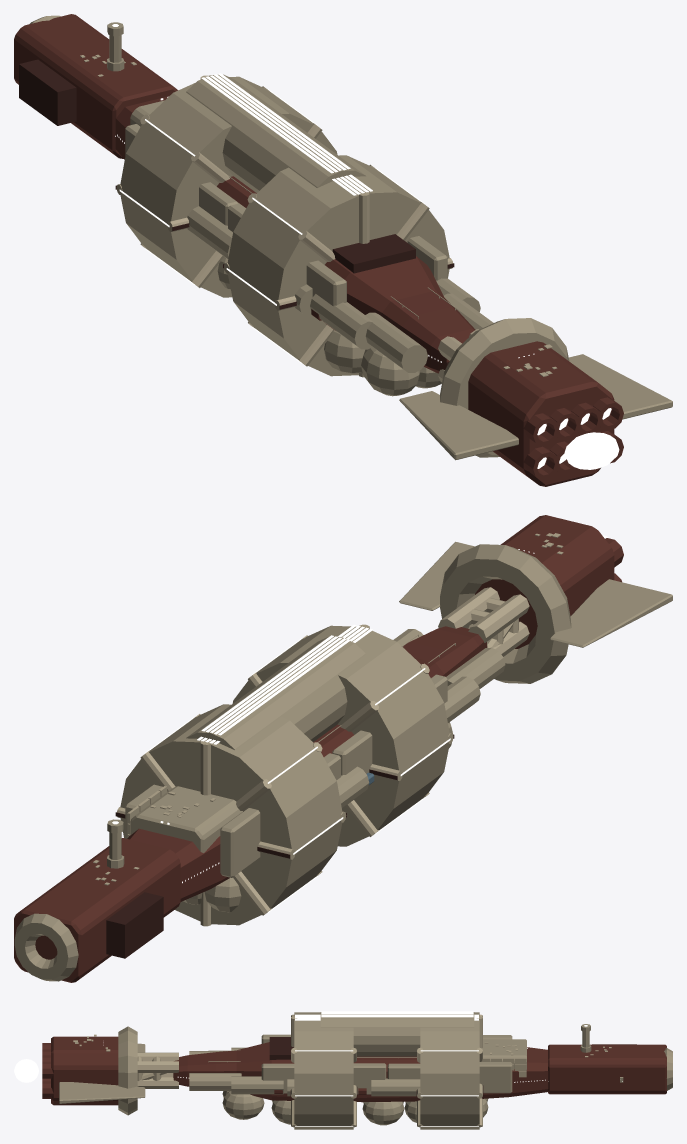
The picture shows the model from 3 angles, top to bottom: view 1: azimuth 30°, elevation 25°; view 2: azimuth 150°, elevation 25°; view 3: azimuth 270°, elevation 25°; orthographic projection. The views are drawn at different scales.
Parts seen in each view (by area): view 1: RIMWARD_HULL, RIMWARD_EMISSIVE, RIMWARD_ENGINE_GLOW; view 2: RIMWARD_HULL, RIMWARD_EMISSIVE; view 3: RIMWARD_HULL, RIMWARD_EMISSIVE, RIMWARD_ENGINE_GLOW.
Part boxes in pixels (box(x1,y1,x2,y2)): RIMWARD_HULL: box(14, 14, 672, 486); RIMWARD_EMISSIVE: box(112, 24, 611, 468); RIMWARD_ENGINE_GLOW: box(564, 432, 619, 469); RIMWARD_HULL: box(14, 515, 672, 982); RIMWARD_EMISSIVE: box(112, 549, 534, 912); RIMWARD_HULL: box(42, 1012, 672, 1129); RIMWARD_EMISSIVE: box(103, 1011, 622, 1126); RIMWARD_ENGINE_GLOW: box(14, 1059, 38, 1082).
Bounding box in the file's own units: 18 × 14.77 × 80.04.
